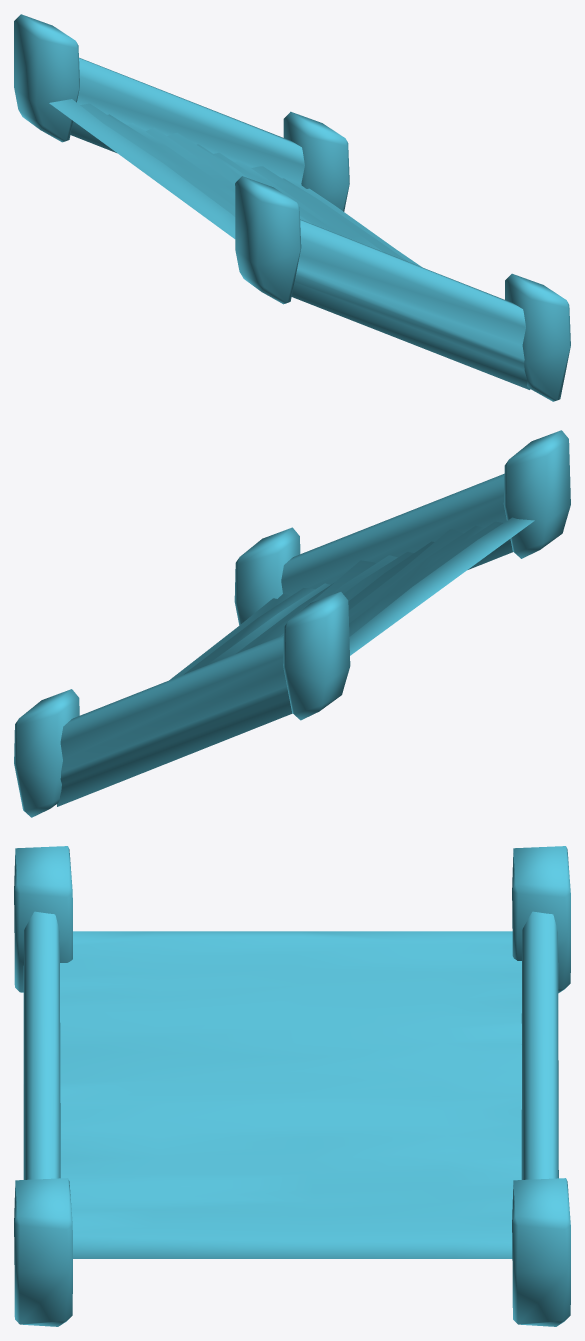
The model's file is stairs.FBX.
3 views of the same model, one above another, from view 1: azimuth 30°, elevation 25°; view 2: azimuth 150°, elevation 25°; view 3: azimuth 270°, elevation 25° (orthographic). The views are drawn at different scales.
Visible parts, largest first — view 1: stairs; view 2: stairs; view 3: stairs.
Part boxes in pixels (<box>): stairs: <box>14,14,570,401</box>; stairs: <box>14,430,570,817</box>; stairs: <box>14,846,570,1326</box>.
Bounding box in the file's own units: 111 × 95.72 × 152.
